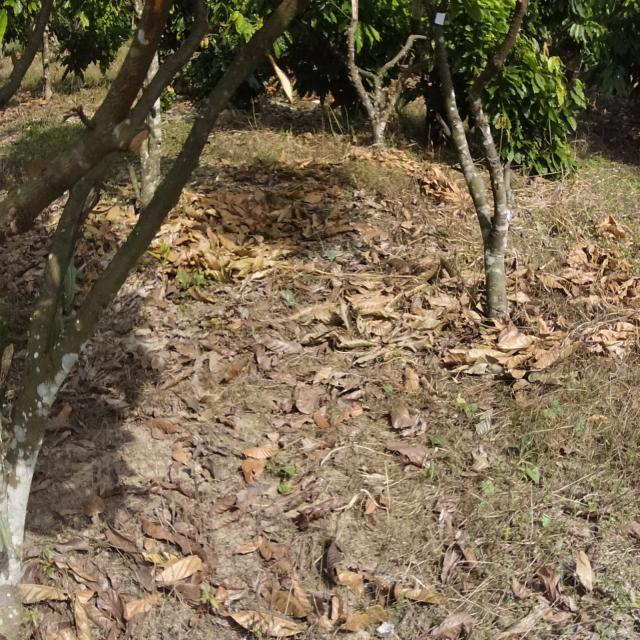Mature_Unripe: (64, 264, 78, 310)
